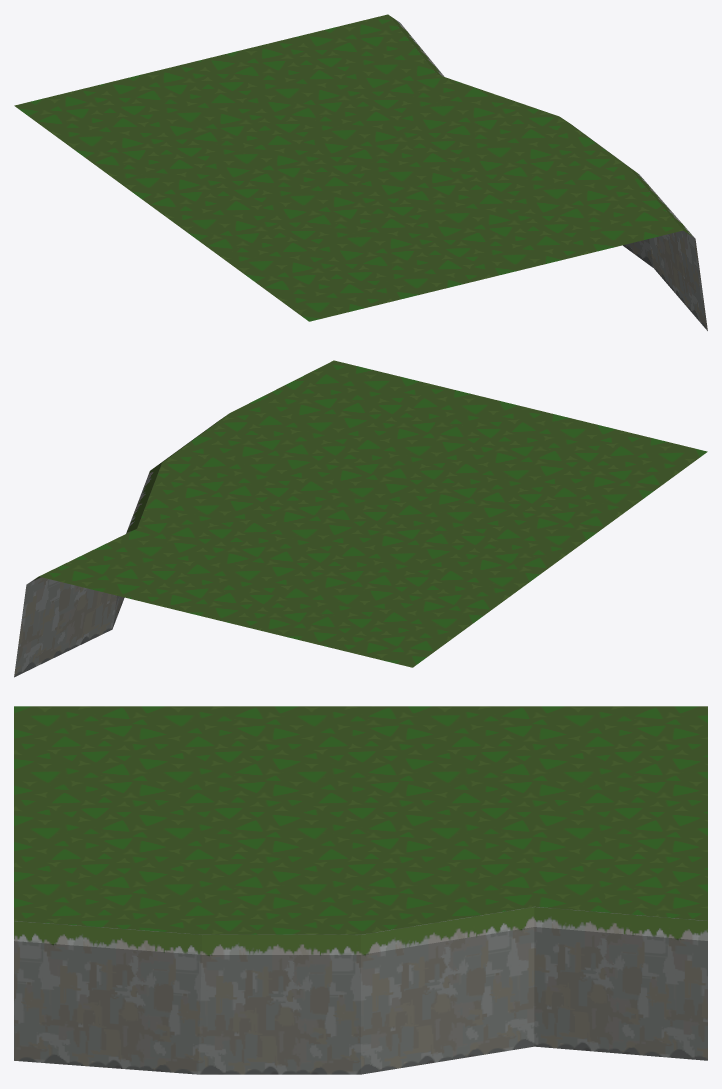
File: chunk_0011.glb
3 renders of one model, top to bottom at view 1: azimuth 30°, elevation 25°; view 2: azimuth 150°, elevation 25°; view 3: azimuth 270°, elevation 25°, orthographic. The views are drawn at different scales.
Visible parts, largest first — view 1: chunk_0011; view 2: chunk_0011; view 3: chunk_0011.
Part boxes in pixels (x1,y1,x2,y2): chunk_0011: (14, 14, 707, 330); chunk_0011: (14, 360, 707, 677); chunk_0011: (14, 706, 707, 1074).
Bounding box in the file's own units: 8.27 × 2 × 10.
Materials: 2 (2 with a texture image).
